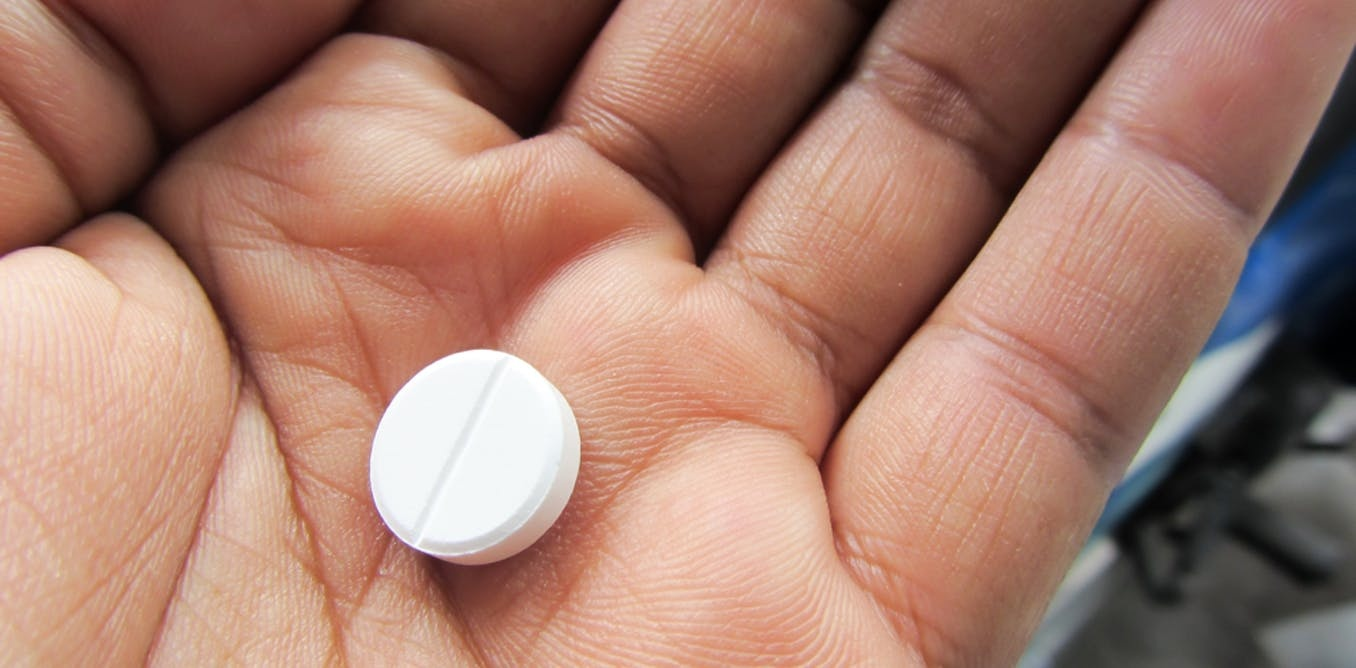pills: (372, 334, 586, 568)
